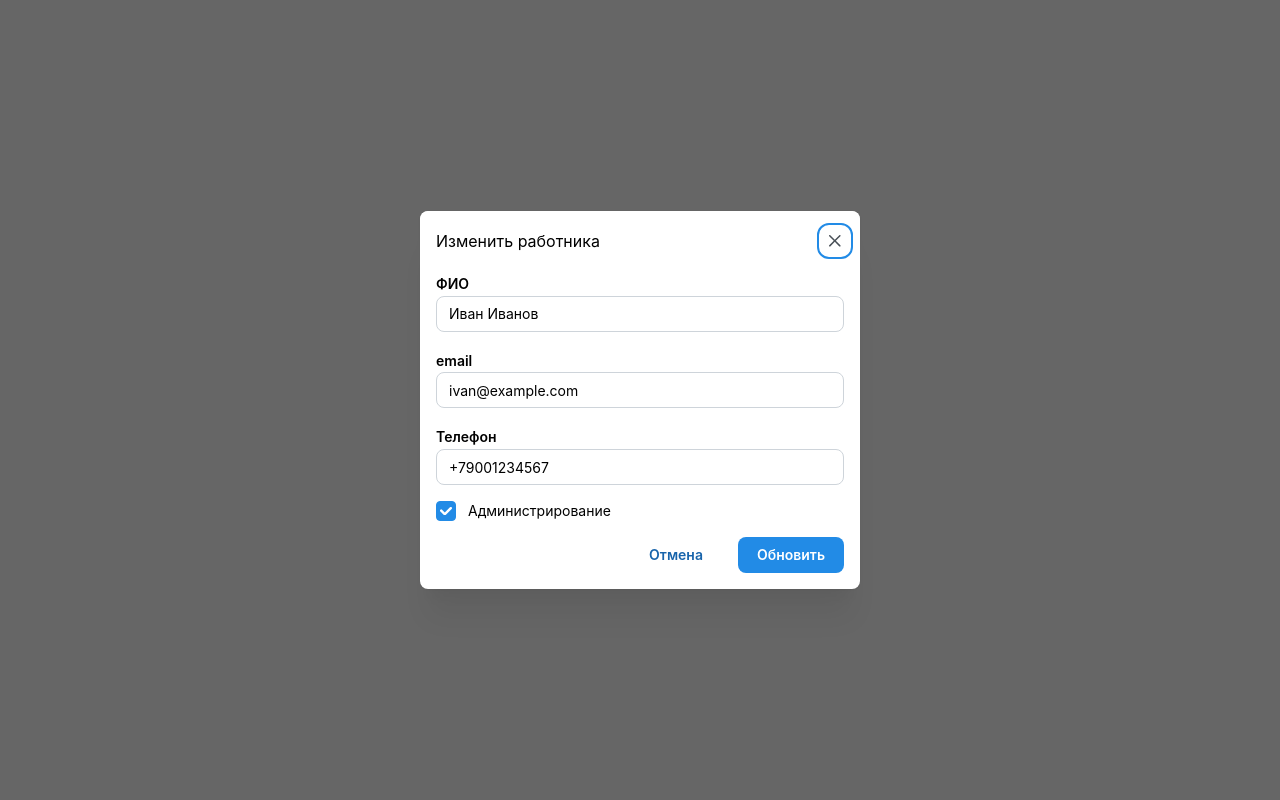
Test case: UpdateWorkersModal › показывает ошибку сервера, если обновление не удалось
This screenshot has width=1280, height=800.
Изменяем данные формы
Step 1. Replace the text in the field labelled "ФИО" with "Иван Иванов Обновленный" → point(640, 314), box [436,296,844,332]
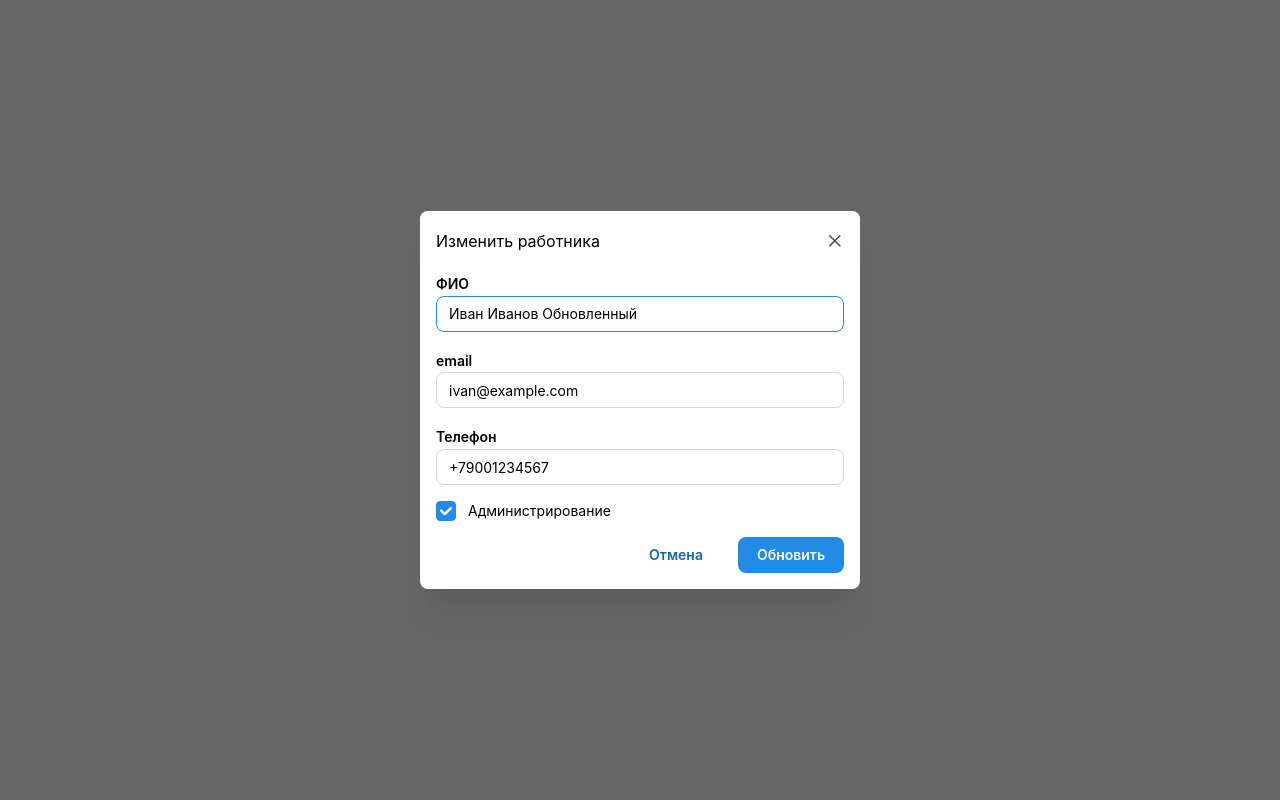
Отправляем форму
Step 2. Click the button "Обновить" → point(791, 555), box [738,537,844,573]
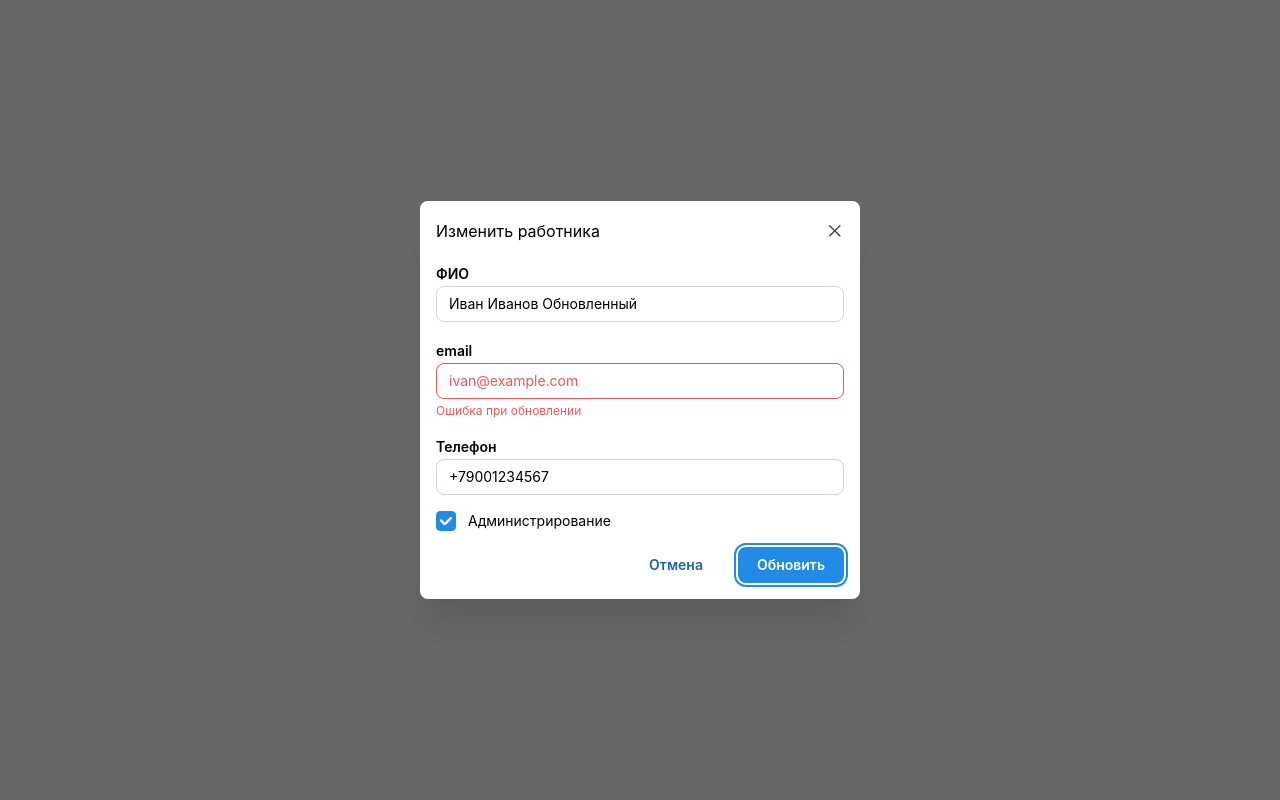
Result: the text "Ошибка при обновлении" is shown at [436,403,581,418]
